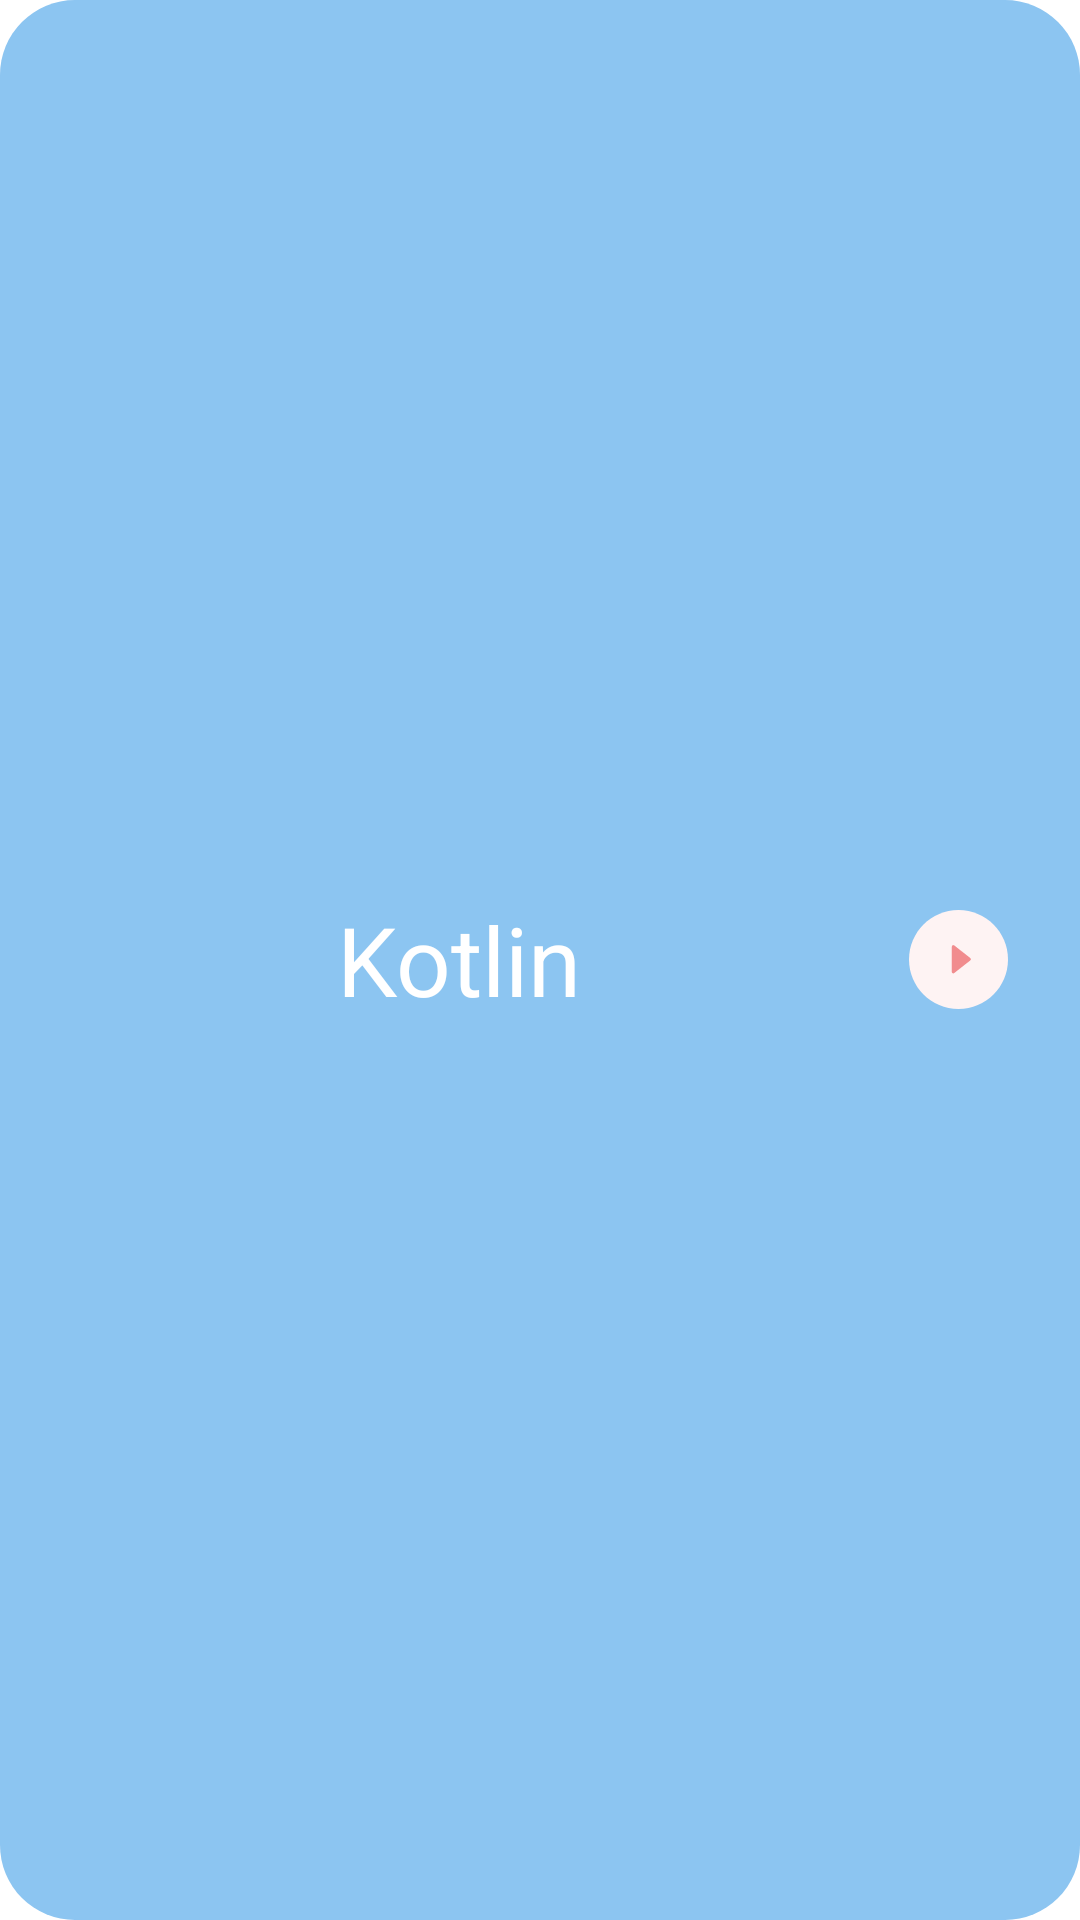

Icon click points for this 1080w x 1920h phone screenshot, format point (x, y):
play: point (958, 959)
